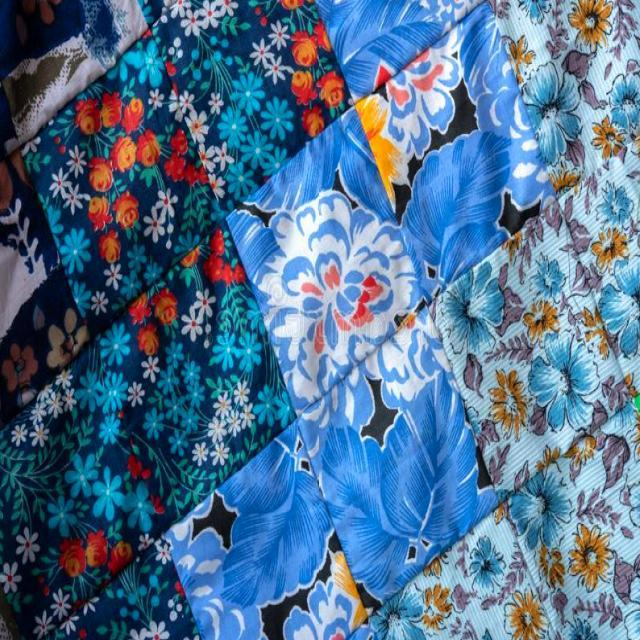clothes: (102, 72, 610, 498)
